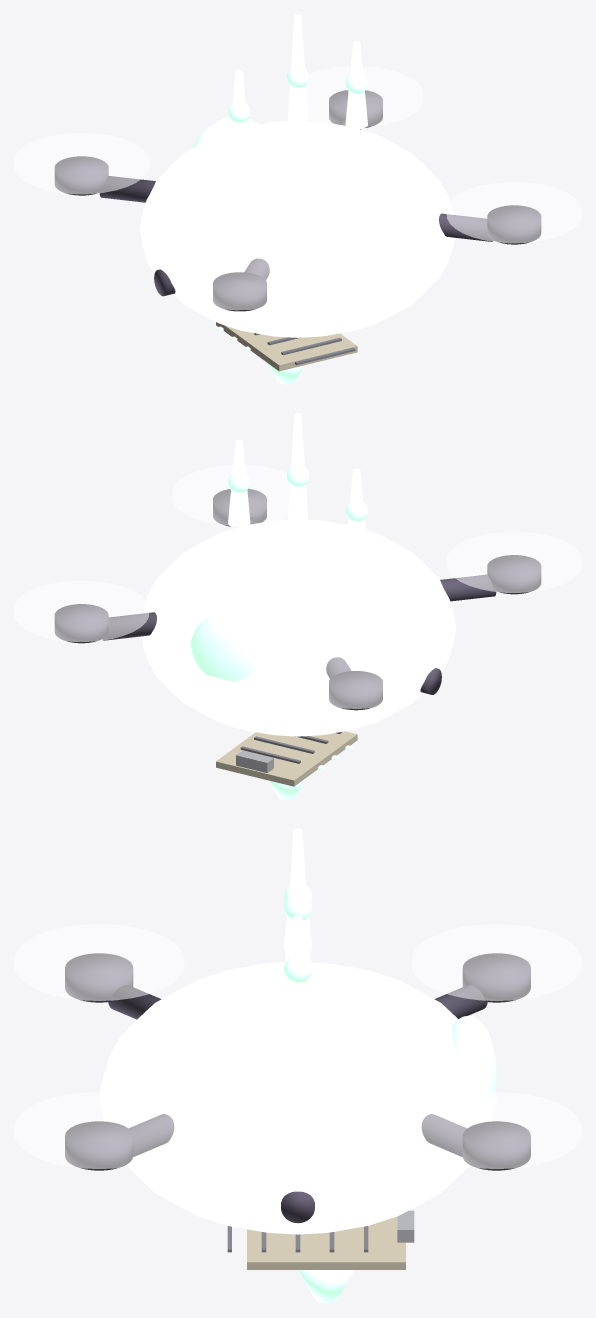
File: rlhf_drone.glb
3 views of the same model, one above another, from view 1: azimuth 30°, elevation 25°; view 2: azimuth 150°, elevation 25°; view 3: azimuth 270°, elevation 25° (orthographic). The views are drawn at different scales.
Parts seen in each view (by area): view 1: rlhf_drone; view 2: rlhf_drone; view 3: rlhf_drone.
Part boxes in pixels (x1=…): rlhf_drone: x1=14, y1=14, x2=581, y2=384; rlhf_drone: x1=14, y1=413, x2=581, y2=799; rlhf_drone: x1=14, y1=828, x2=581, y2=1303.
Bounding box in the file's own units: 1 × 0.91 × 1.
